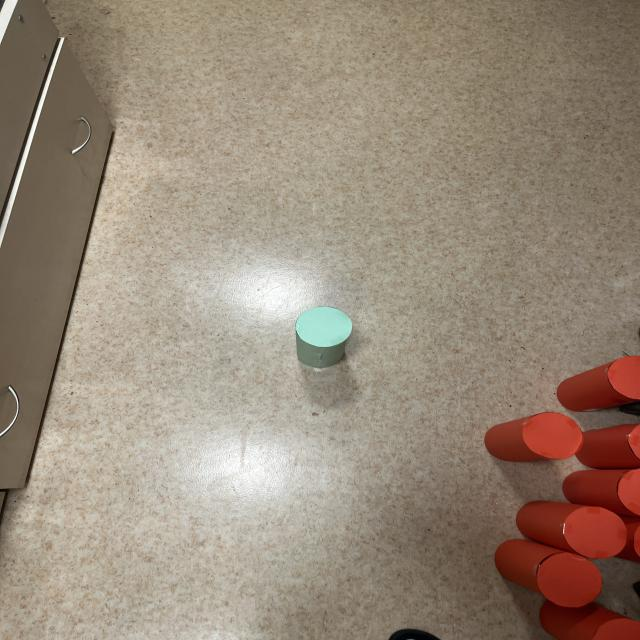meta: (296, 307, 352, 368)
